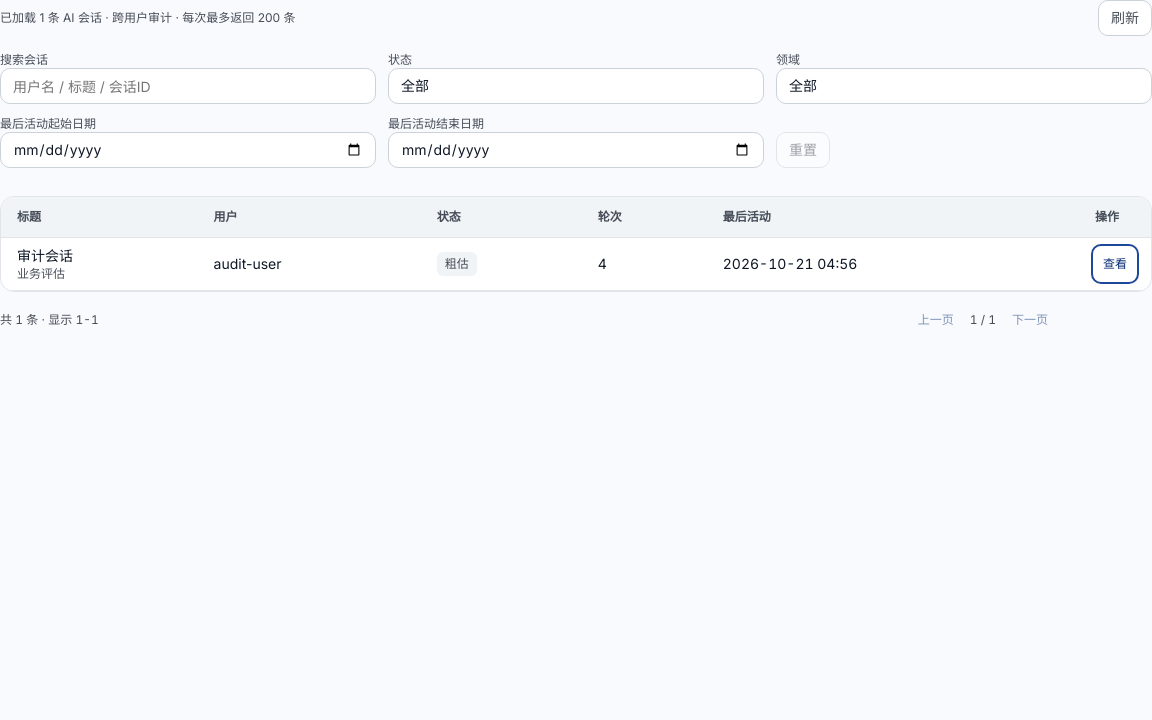
会话审计统一列表与只读详情 › 完整返回字段只读显示于共享弹窗，关闭恢复焦点且无写API
The width and height of the screenshot is (1152, 720).
What coordinates should you click on to do the following:
click the button with aria-label "查看审计会话"
I would click on:
 (1115, 264)
Its box is left=1095, top=248, right=1135, bottom=280.
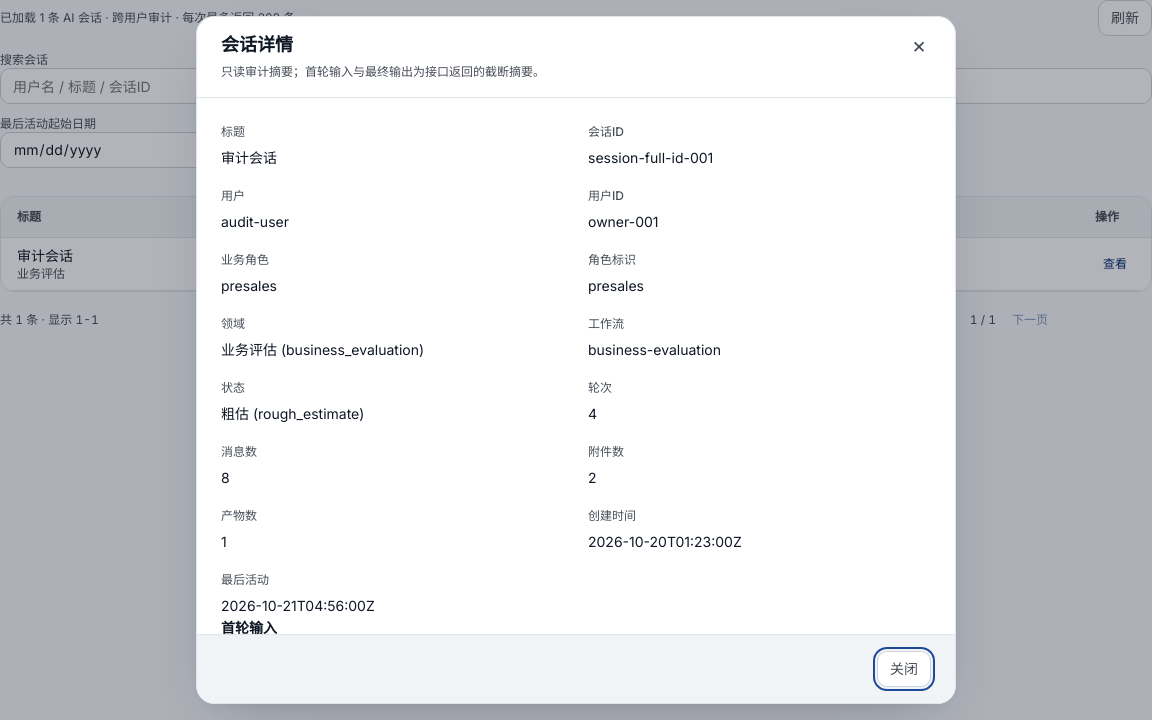
Result: the text "session-full-id-001" is shown at left=588, top=149, right=713, bottom=166
Result: the text "owner-001" is shown at left=588, top=213, right=658, bottom=230
Result: the text "audit-user" is shown at left=221, top=213, right=289, bottom=230
What coordinates should you click on to do the following:
click the button "关闭"
I would click on:
 (904, 669)
Its box is left=877, top=651, right=931, bottom=687.
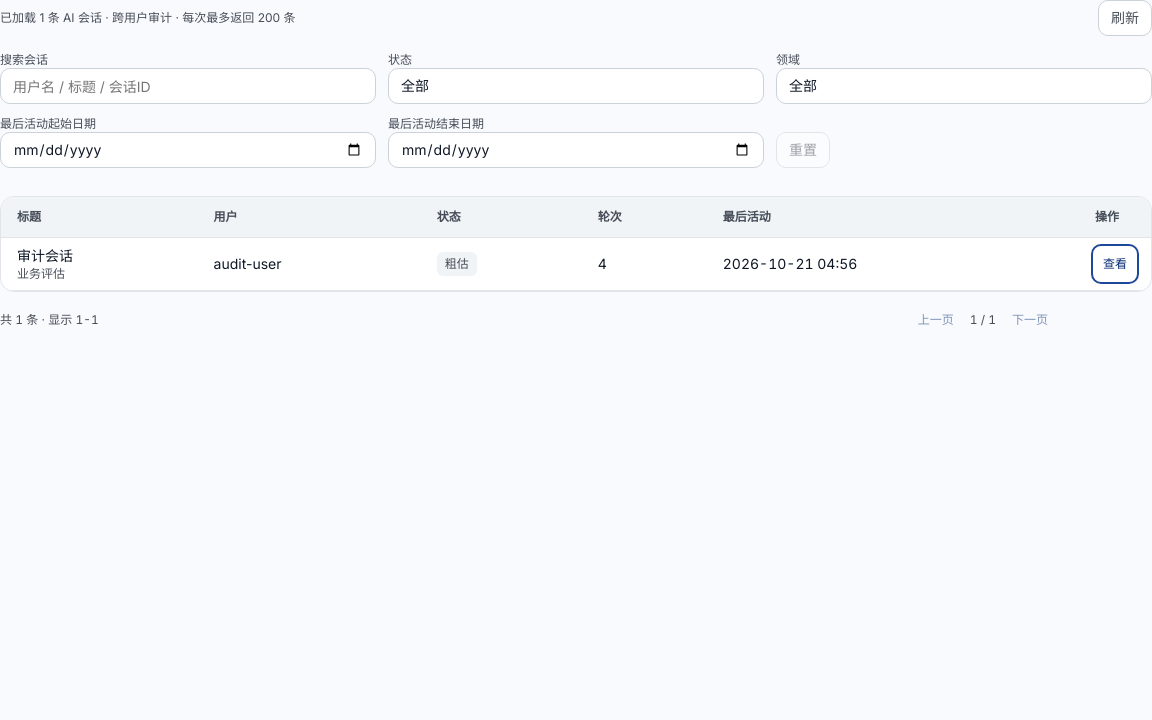
Result: the dialog is gone
